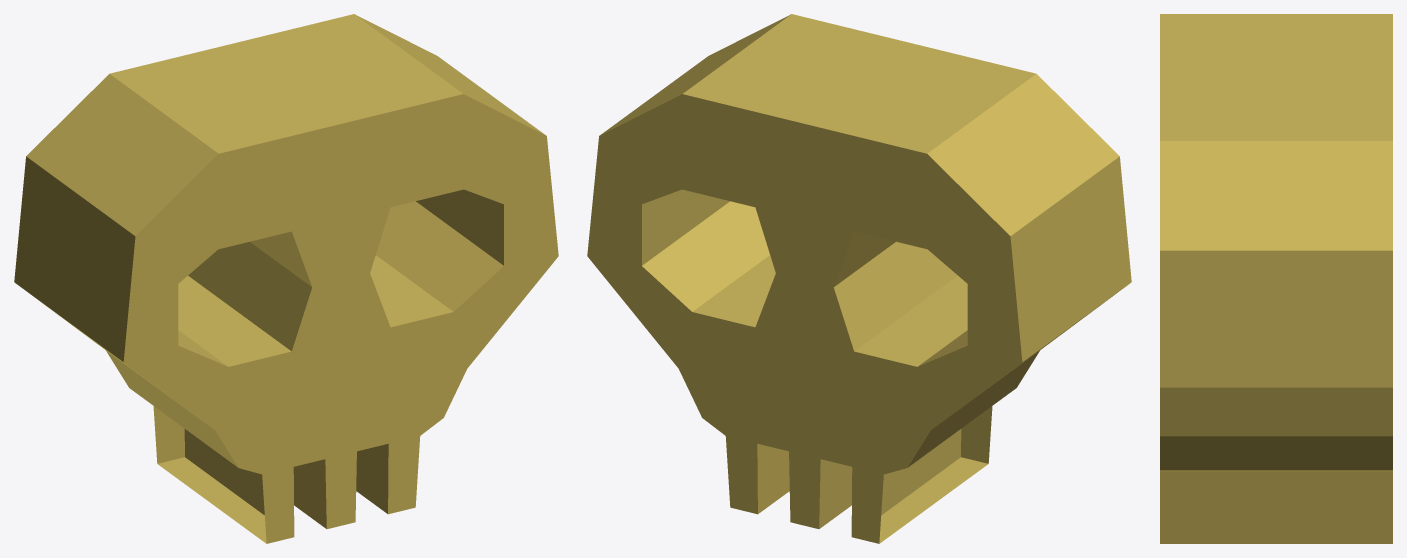
File: Skull.fbx
3 renders of one model, left to right at view 1: azimuth 30°, elevation 25°; view 2: azimuth 150°, elevation 25°; view 3: azimuth 270°, elevation 25°, orthographic. The views are drawn at different scales.
Parts seen in each view (by area): view 1: Skull; view 2: Skull; view 3: Skull.
Part boxes in pixels (left/top/right/bottom): Skull: left=14, top=14, right=558, bottom=543; Skull: left=587, top=14, right=1131, bottom=543; Skull: left=1160, top=14, right=1392, bottom=543.
Size of the model in its own units: 36.44 by 32.16 by 15.87.
